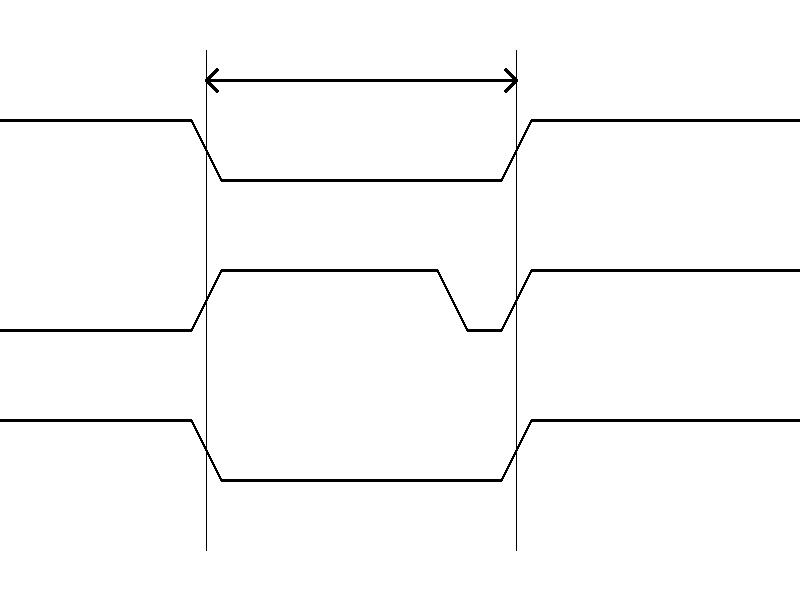double_arrow: (206, 65, 516, 95)
